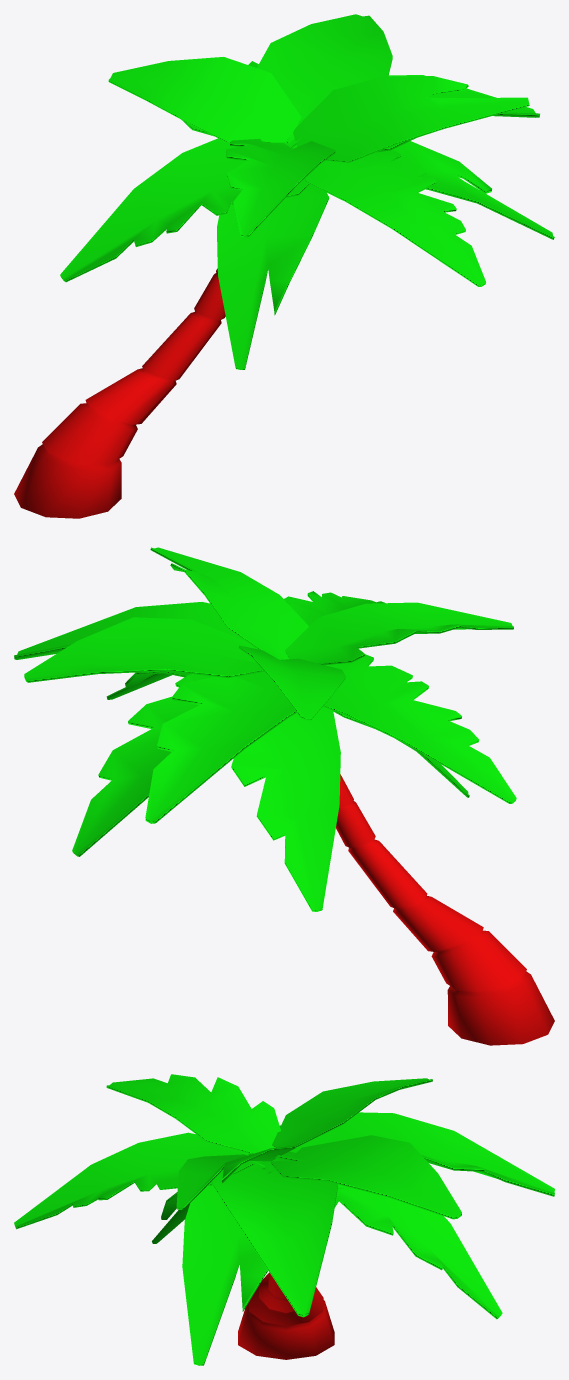
Rendered from palm tree 3 low.fbx.
3 views of the same model, one above another, from view 1: azimuth 30°, elevation 25°; view 2: azimuth 150°, elevation 25°; view 3: azimuth 270°, elevation 25° (orthographic). The views are drawn at different scales.
Visible parts, largest first — view 1: palm_tree_3_low; view 2: palm_tree_3_low; view 3: palm_tree_3_low.
Boxes of the visible parts, left/top/right/bottom form: palm_tree_3_low: left=14, top=14, right=554, bottom=518; palm_tree_3_low: left=14, top=547, right=554, bottom=1045; palm_tree_3_low: left=14, top=1074, right=554, bottom=1365.
Size of the model in its own units: 223 by 144 by 211.
